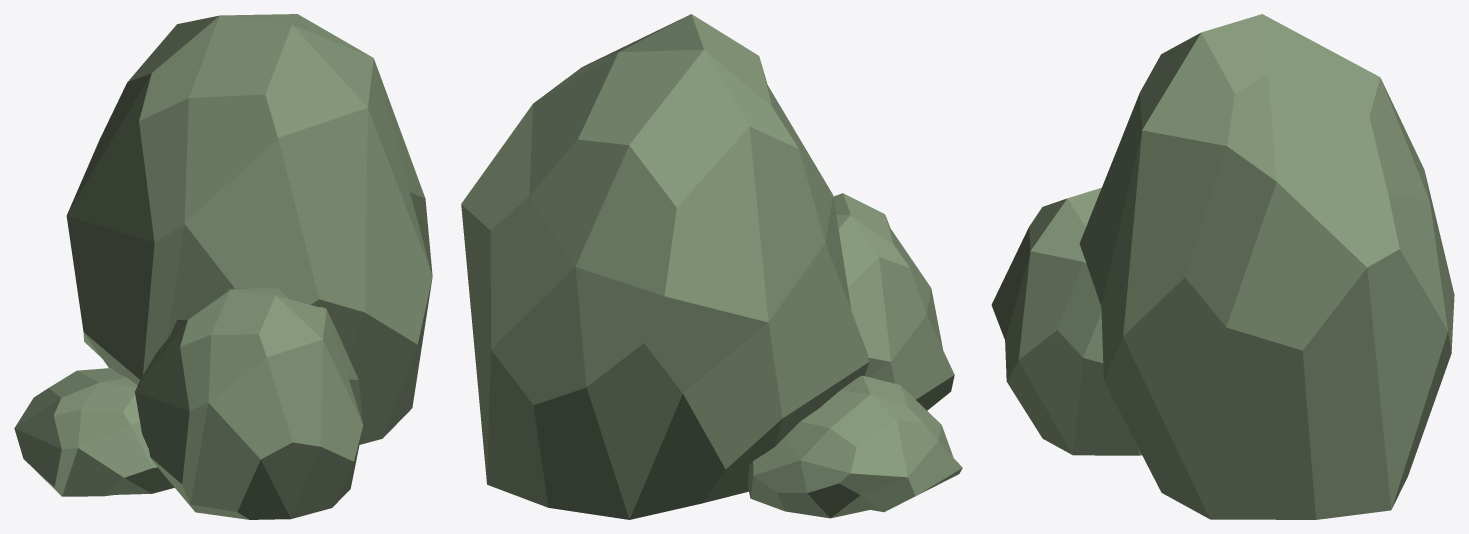
The model's file is Bush5.fbx.
3 views of the same model, side by side, from view 1: azimuth 30°, elevation 25°; view 2: azimuth 150°, elevation 25°; view 3: azimuth 270°, elevation 25° (orthographic). The views are drawn at different scales.
Visible parts, largest first — view 1: Tall_bush1; view 2: Tall_bush1; view 3: Tall_bush1.
Boxes of the visible parts, x1,y1,x2,y2 form: Tall_bush1: (14, 14, 432, 519); Tall_bush1: (461, 14, 962, 519); Tall_bush1: (991, 14, 1454, 519).
Bounding box in the file's own units: 9.28 × 8.88 × 8.76.
